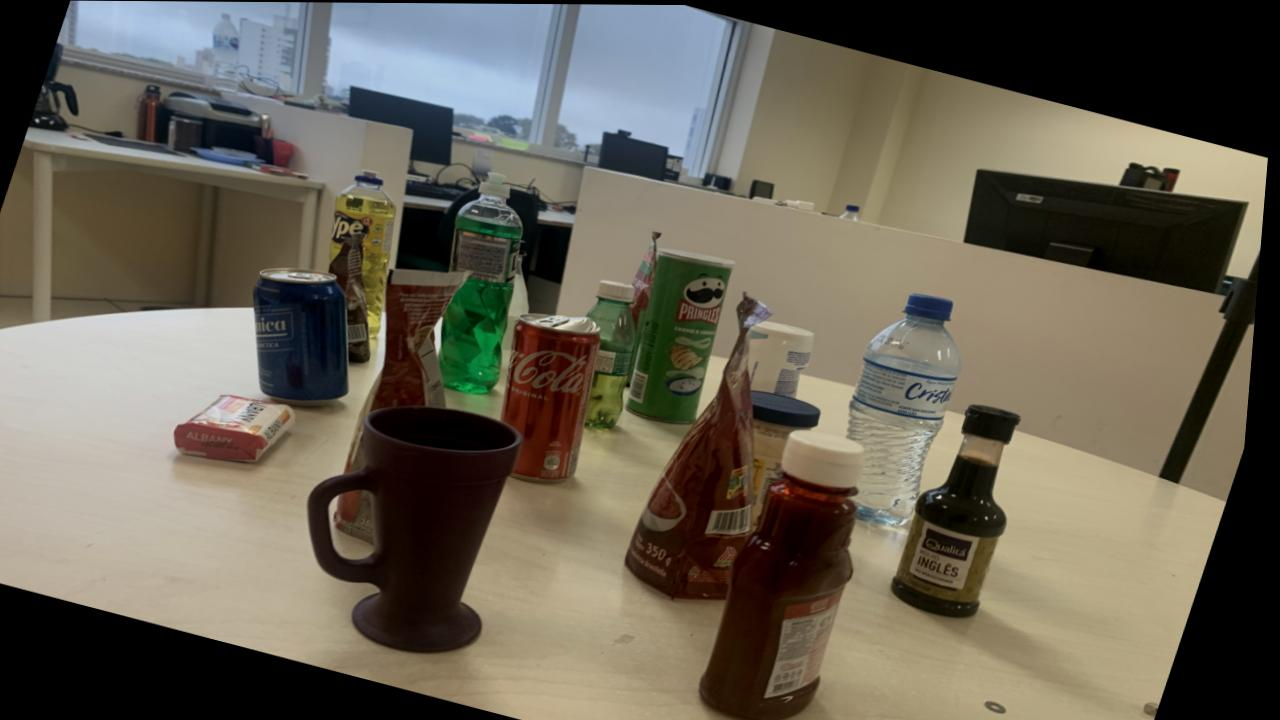Cleaner-Cleanup_Items: (753, 319, 821, 396)
Coffee-Pantry_Items: (333, 232, 377, 363)
Coke-Drinks: (507, 313, 607, 483)
Detergent-Cleanup_Items: (445, 171, 527, 393), (333, 180, 401, 338)
English_Sauce-Pantry_Items: (901, 405, 1026, 616)
Guarana-Drinks: (591, 280, 642, 429)
Ketchup-Pantry_Items: (711, 431, 869, 720), (378, 178, 382, 182)
Mayonnaise-Pantry_Items: (757, 389, 828, 519)
Pringles-Snacks: (632, 247, 739, 423)
Soap-Cleanup_Items: (181, 394, 303, 462)
Tomato_Sauce-Pantry_Items: (634, 296, 775, 599), (352, 268, 472, 471), (634, 231, 665, 325), (342, 493, 383, 542)
Tonic-Drinks: (257, 267, 355, 405)
Water_Bottle-Drinks: (853, 293, 969, 525)
